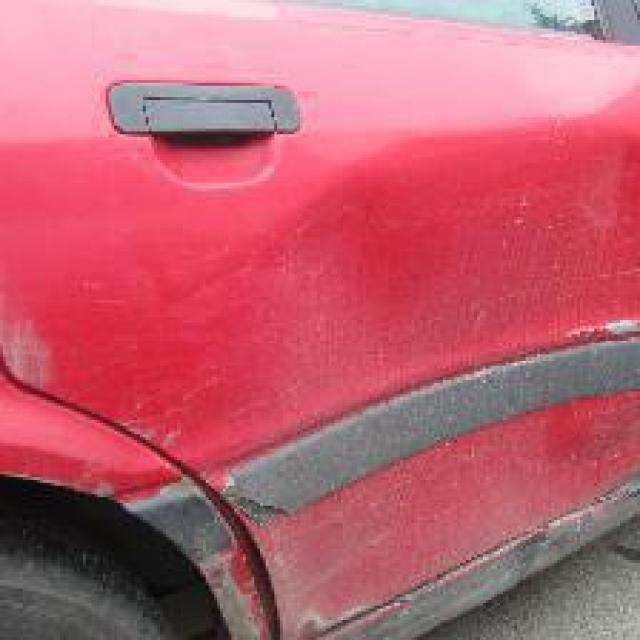damaged: (172, 125, 637, 638)
